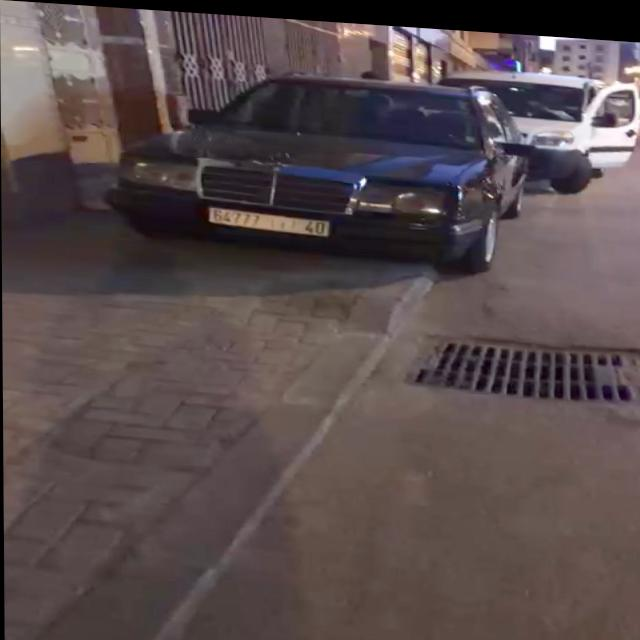License-Plate: (209, 205, 330, 232)
